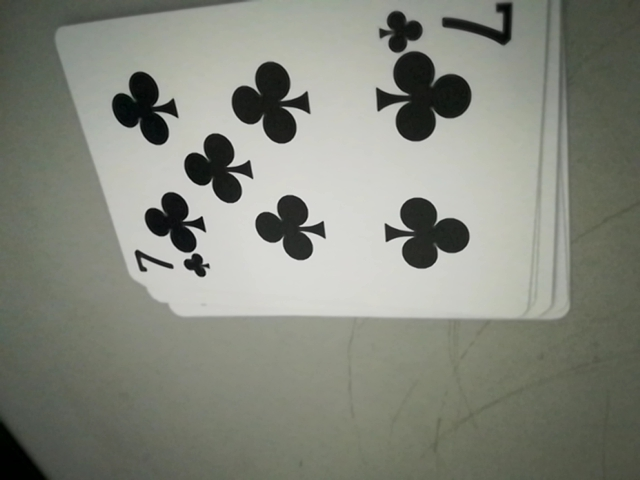mh 7: (378, 0, 515, 54), (125, 243, 209, 287)
